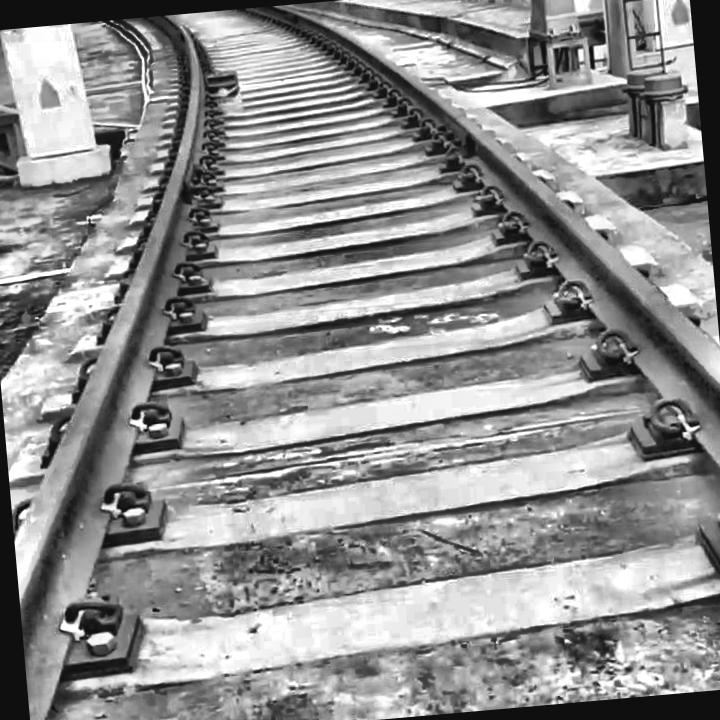Trash: (197, 60, 252, 119)
